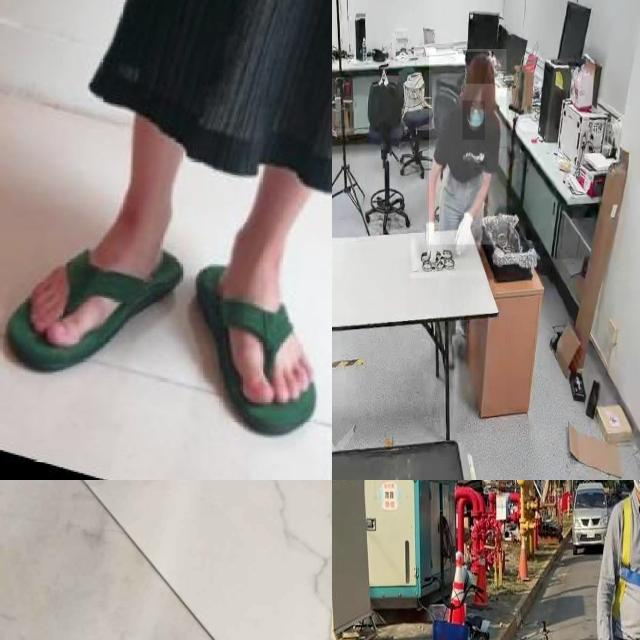Harness: (613, 497, 640, 622)
Sandals: (0, 186, 197, 376), (197, 200, 331, 440), (0, 549, 332, 640)
face_mask: (463, 100, 485, 140)
head_nohelmet: (466, 52, 494, 84)
person: (429, 49, 507, 245)
